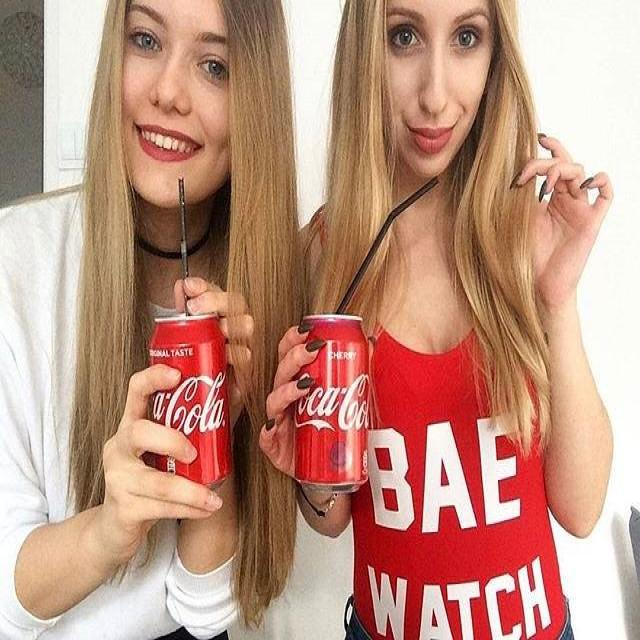coca-cola: (147, 312, 234, 495), (292, 312, 370, 497)
